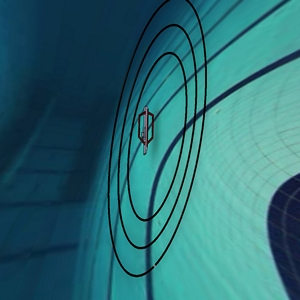circle: (50, 1, 241, 285)
submarine: (130, 96, 167, 157)
